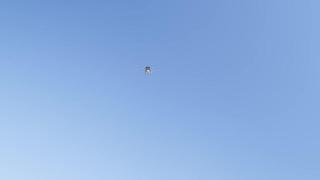UAV: (142, 66, 156, 74)
